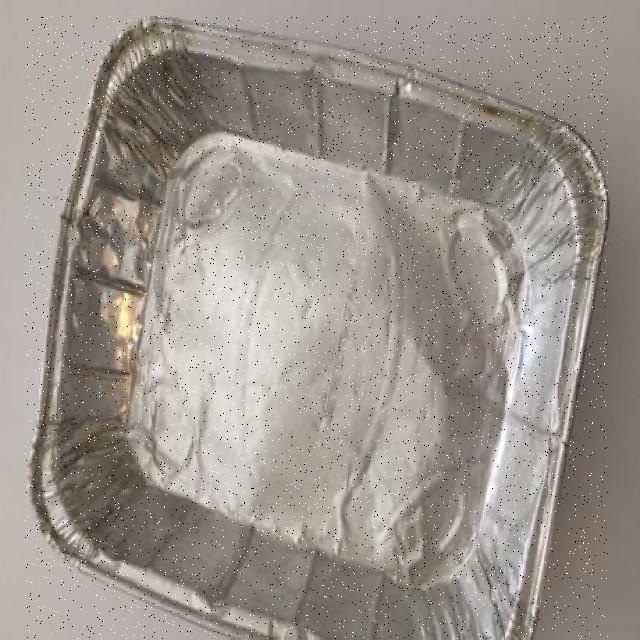metal: (25, 17, 608, 639)
